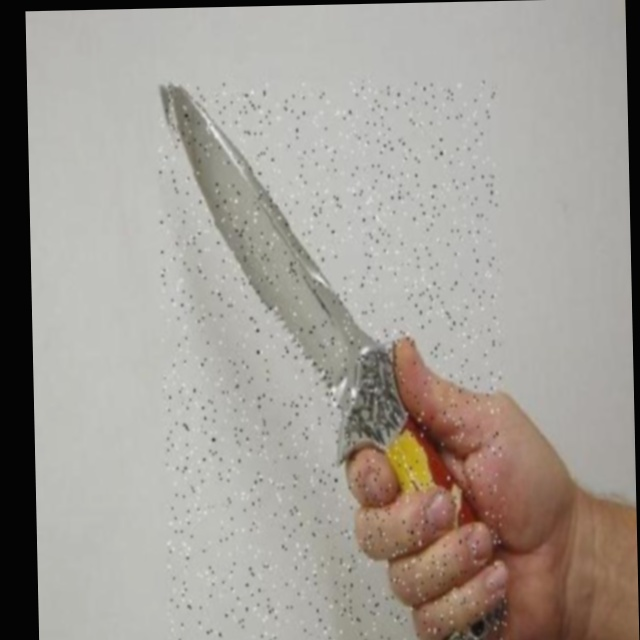Sharp-Object: (157, 78, 508, 640)
